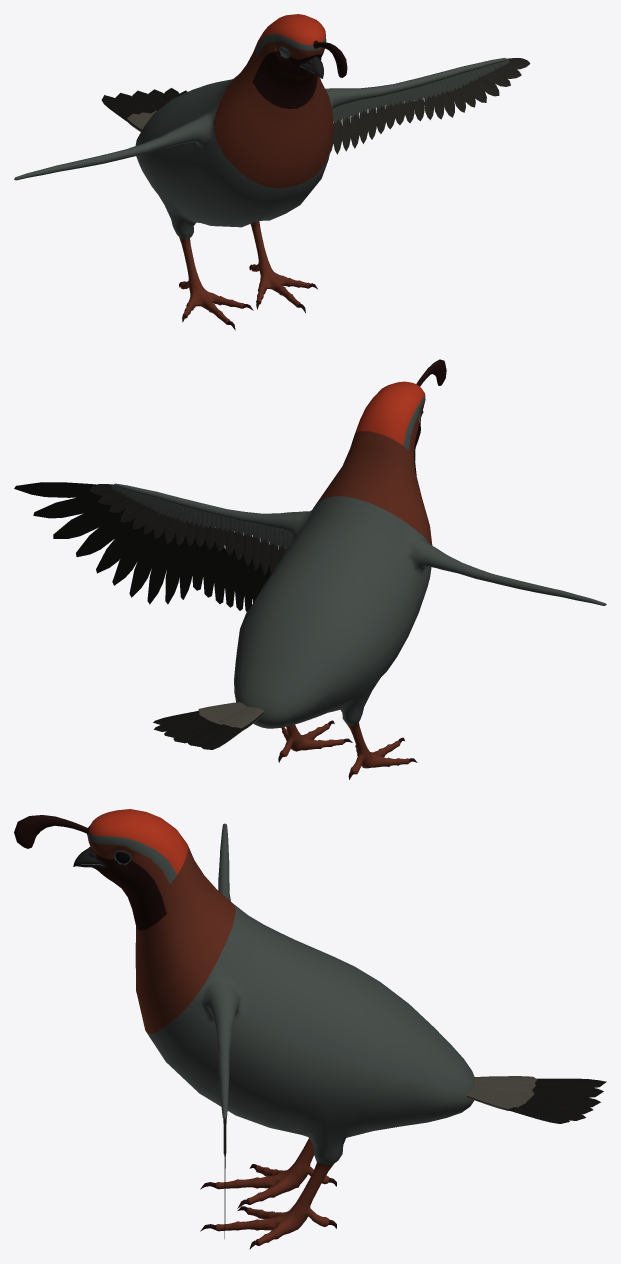
File: quail.obj
The picture shows the model from 3 angles, top to bottom: view 1: azimuth 30°, elevation 25°; view 2: azimuth 150°, elevation 25°; view 3: azimuth 270°, elevation 25°; orthographic projection. The views are drawn at different scales.
Visible parts, largest first — view 1: quail, feather_tail_primary_006; view 2: quail, feather_flight_primary_019, feather_flight_primary_021, feather_flight_primary_020, feather_flight_primary_018, feather_flight_primary_015, feather_flight_primary_014, feather_flight_primary_017, feather_flight_primary_016, feather_flight_primary_013, feather_flight_primary_012, feather_flight_primary_009 (+3 smaller); view 3: quail, feather_tail_primary_005, feather_tail_primary_006, feather_tail_primary_001.
Boxes of the visible parts, left/top/right/bottom form: quail: left=14, top=14, right=507, bottom=330; feather_tail_primary_006: left=101, top=95, right=141, bottom=131; quail: left=113, top=359, right=606, bottom=779; feather_flight_primary_019: left=53, top=504, right=123, bottom=538; feather_flight_primary_021: left=14, top=482, right=103, bottom=497; feather_flight_primary_020: left=33, top=494, right=111, bottom=518; feather_flight_primary_018: left=76, top=508, right=134, bottom=556; feather_flight_primary_015: left=129, top=528, right=165, bottom=597; feather_flight_primary_014: left=147, top=532, right=174, bottom=604; feather_flight_primary_017: left=96, top=518, right=144, bottom=573; feather_flight_primary_016: left=112, top=526, right=154, bottom=585; feather_flight_primary_013: left=165, top=532, right=185, bottom=604; feather_flight_primary_012: left=179, top=534, right=194, bottom=599; feather_flight_primary_009: left=213, top=541, right=225, bottom=603; quail: left=14, top=809, right=474, bottom=1249; feather_tail_primary_005: left=532, top=1086, right=603, bottom=1097; feather_tail_primary_006: left=535, top=1078, right=606, bottom=1088; feather_tail_primary_001: left=467, top=1096, right=569, bottom=1123.
Bounding box in the file's own units: 0.3364 × 0.1762 × 0.2381.
